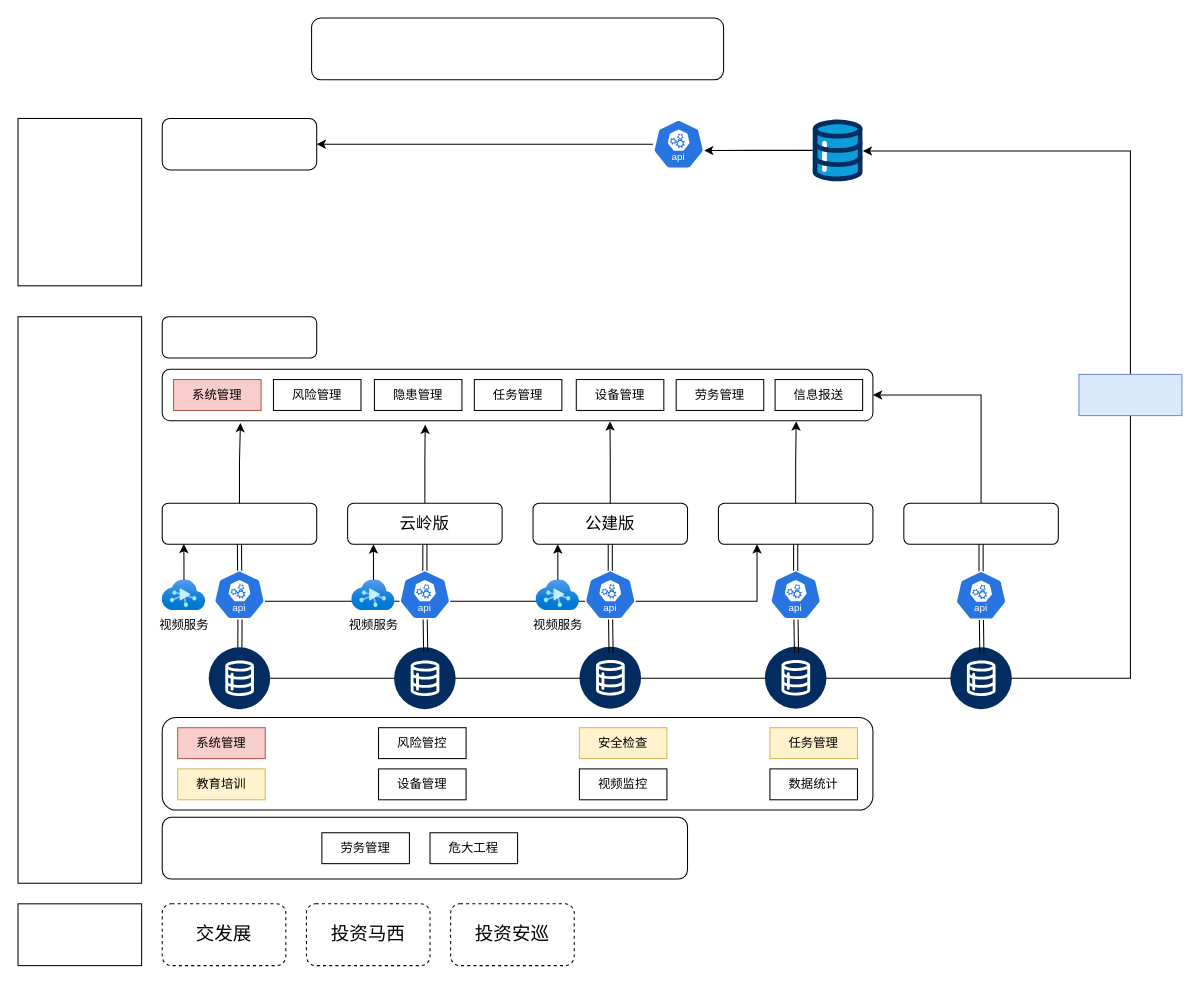
This 1200x984 diagram has some shape labels left out. The shapes that lost their labels are listed below. From the top down, each one's centre as x and y in pixels, then its label:
At (517,48): "一部手机管安全4.0架构".
At (239,143): "关键施工风险防控".
At (79,201): "统计版本".
At (239,337): "集团版".
At (1130,394): "数据汇聚".
At (239,523): "交科院版".
At (795,523): "管理处版".
At (980,523): "通用版".
At (79,599): "业务版本".
At (79,934): "独立版本".
